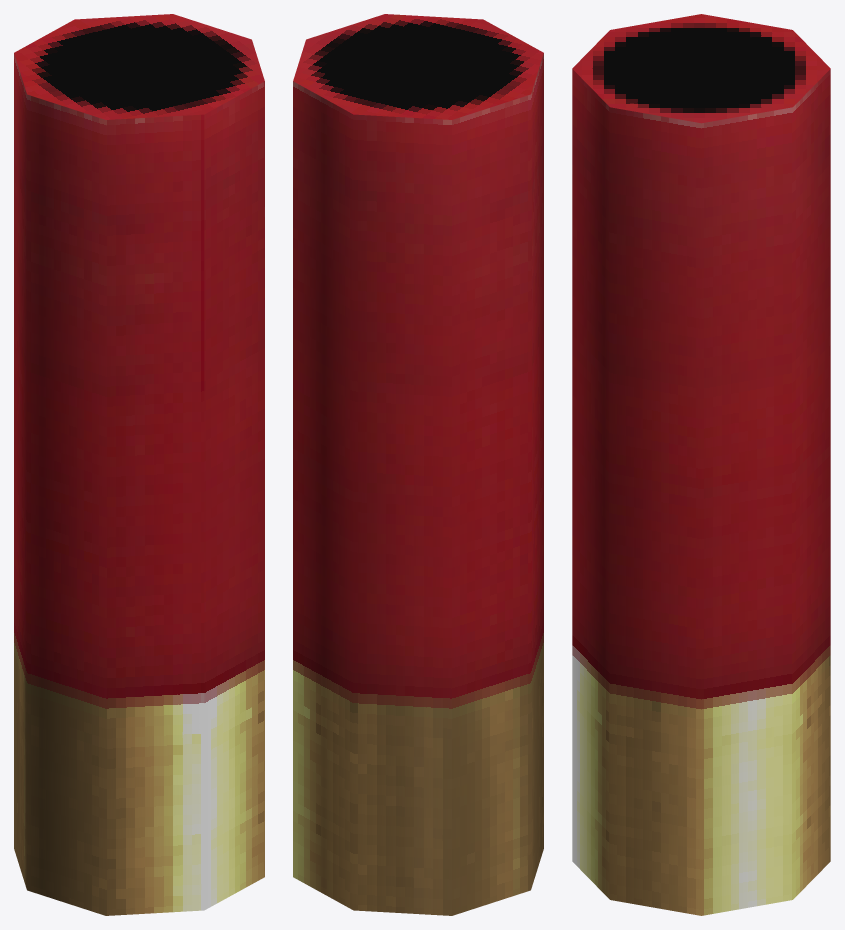
File: shotgun_shell_empty.glb
The picture shows the model from 3 angles, left to right: view 1: azimuth 30°, elevation 25°; view 2: azimuth 150°, elevation 25°; view 3: azimuth 270°, elevation 25°; orthographic projection.
Visible parts, largest first — view 1: shotgun_shell_empty; view 2: shotgun_shell_empty; view 3: shotgun_shell_empty.
Boxes of the visible parts, x1,y1,x2,y2 form: shotgun_shell_empty: [14, 14, 264, 915]; shotgun_shell_empty: [293, 14, 543, 915]; shotgun_shell_empty: [572, 14, 830, 915].
Bounding box in the file's own units: 0.0207 × 0.0699 × 0.0207.
Materials: 1 (1 with a texture image).
